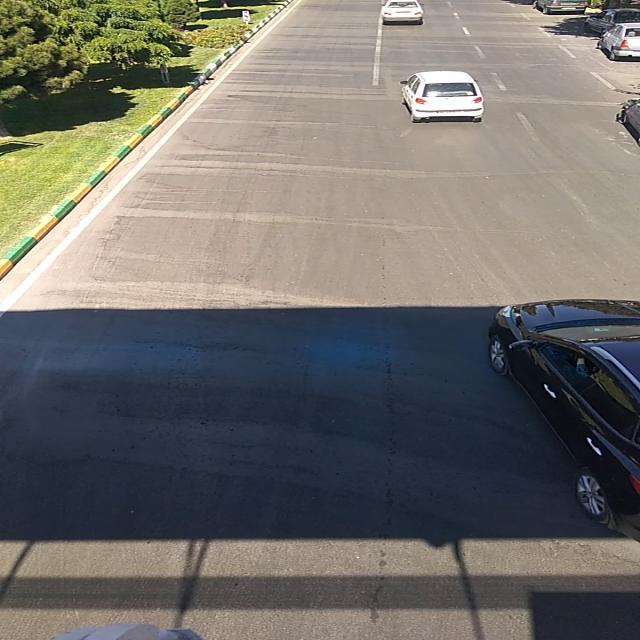car: (485, 300, 639, 542), (398, 71, 486, 122), (599, 24, 639, 59), (378, 1, 427, 23)
